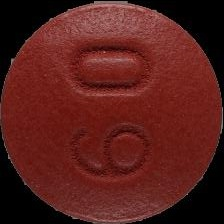55154-4837: (0, 0, 224, 224)
